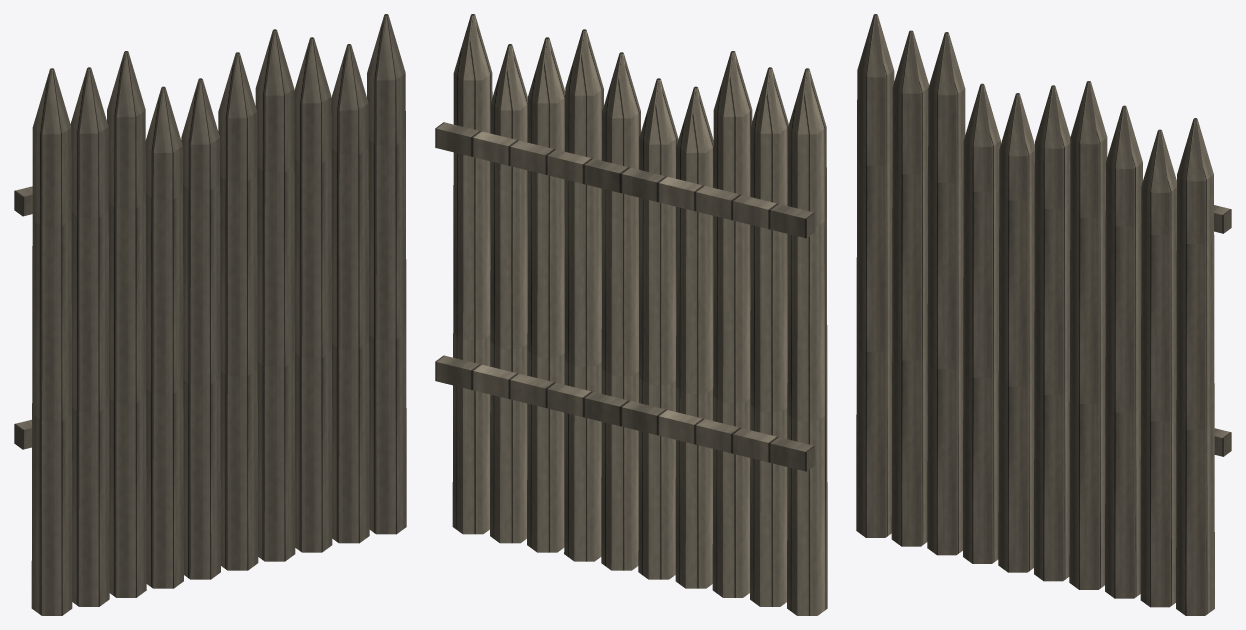
The model's file is Palisade_Stake_1.gltf.
3 views of the same model, side by side, from view 1: azimuth 30°, elevation 25°; view 2: azimuth 150°, elevation 25°; view 3: azimuth 330°, elevation 25° (orthographic). The views are drawn at different scales.
Visible parts, largest first — view 1: Palisade_Stake_1; view 2: Palisade_Stake_1; view 3: Palisade_Stake_1.
Part boxes in pixels (left/top/right/bottom): Palisade_Stake_1: left=14, top=14, right=406, bottom=615; Palisade_Stake_1: left=435, top=14, right=827, bottom=615; Palisade_Stake_1: left=856, top=14, right=1231, bottom=615.
Size of the model in its own units: 2 by 2.78 by 0.275.
1 material, 1 textured.
